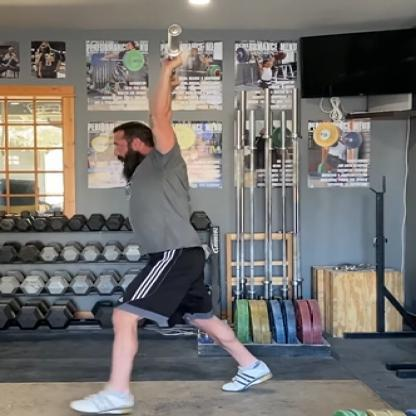Barbell: (167, 22, 185, 40)
